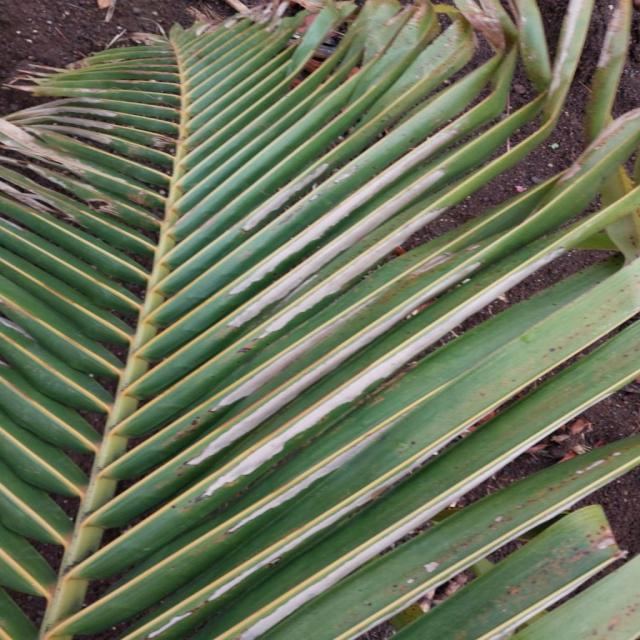gray leaf spot: (161, 130, 549, 560)
